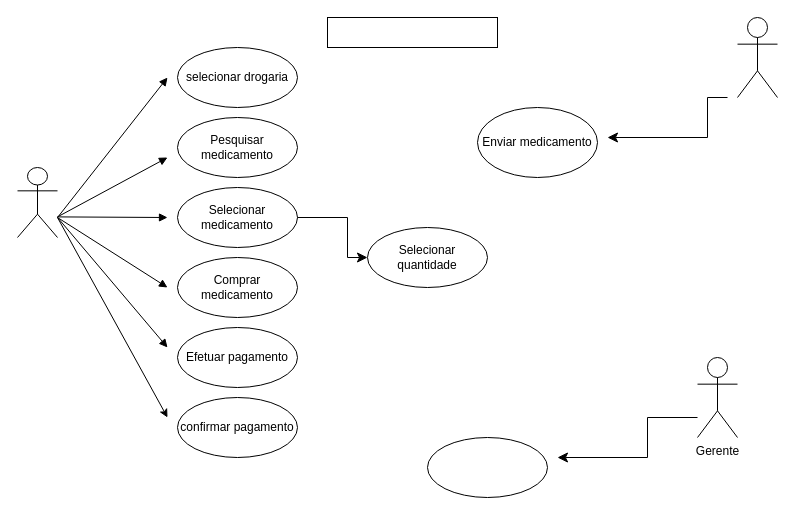
Image size: 812x515. Some labels were removed from this diagram. The shapes that lost their labels are listed below. From the top down, each one's centre as x and y in pixels, then its label:
[412,32]: Sistema de farmacia
[757,57]: Administrador
[37,202]: Cliente
[487,467]: consultar estoque
